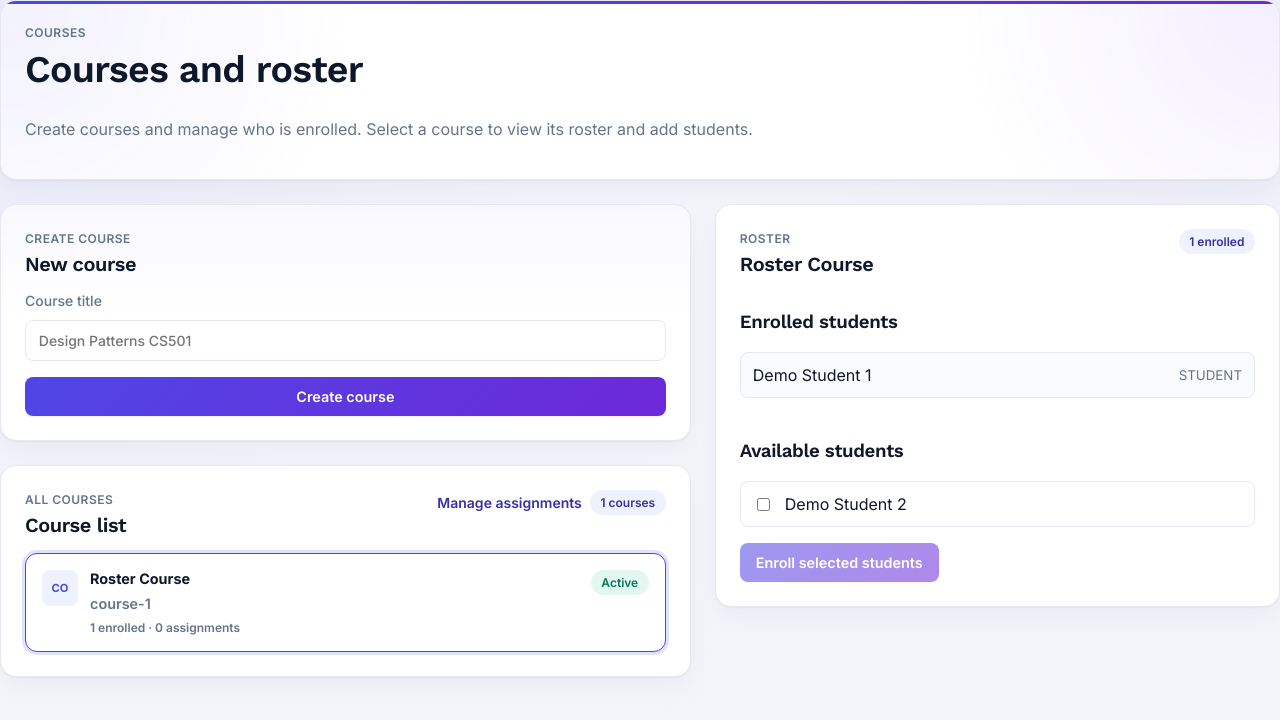
CoursesPage › enrolls selected students through POST and refreshes roster UI
Expected: the text "Roster Course" is shown, [90, 570, 190, 587]
Step 1. Click the checkbox labelled "Demo Student 2" → (763, 504), box [757, 498, 770, 511]
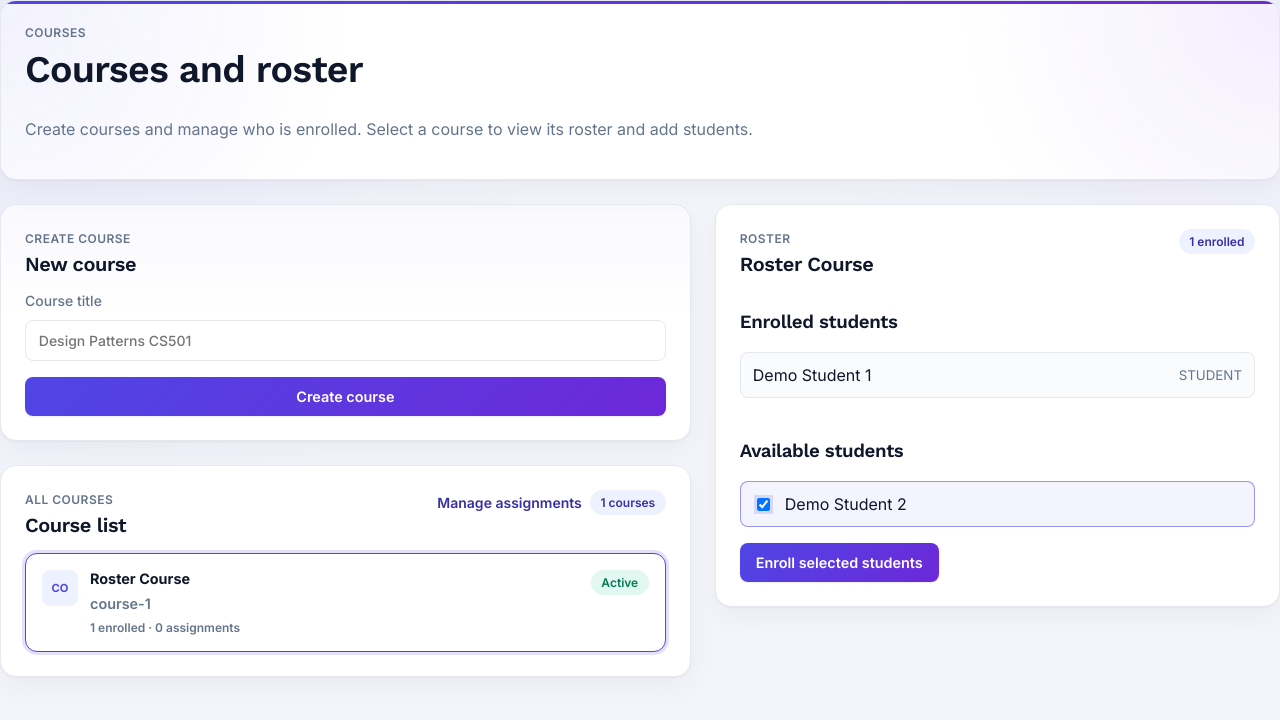
Step 2. Click the button "Enroll selected students" → (839, 563), box [740, 543, 939, 582]
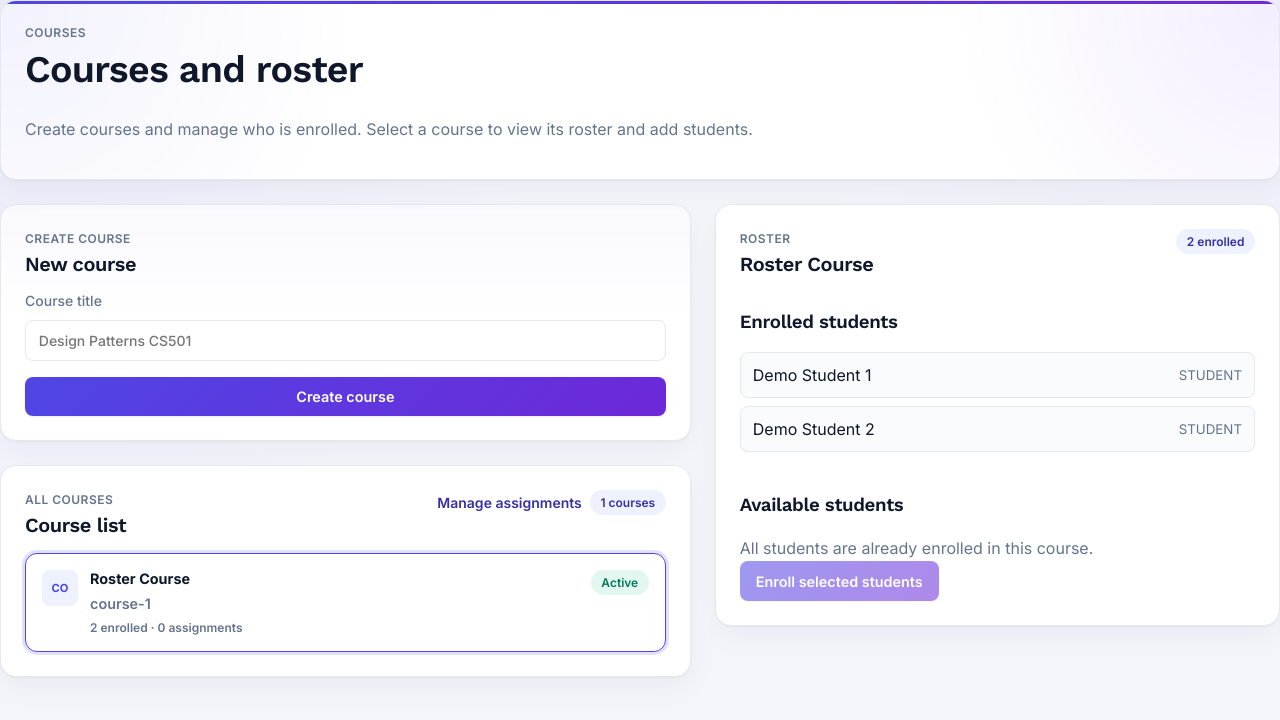
Expected: the list named "Enrolled students" shows "Demo Student 2", [753, 419, 875, 439]
